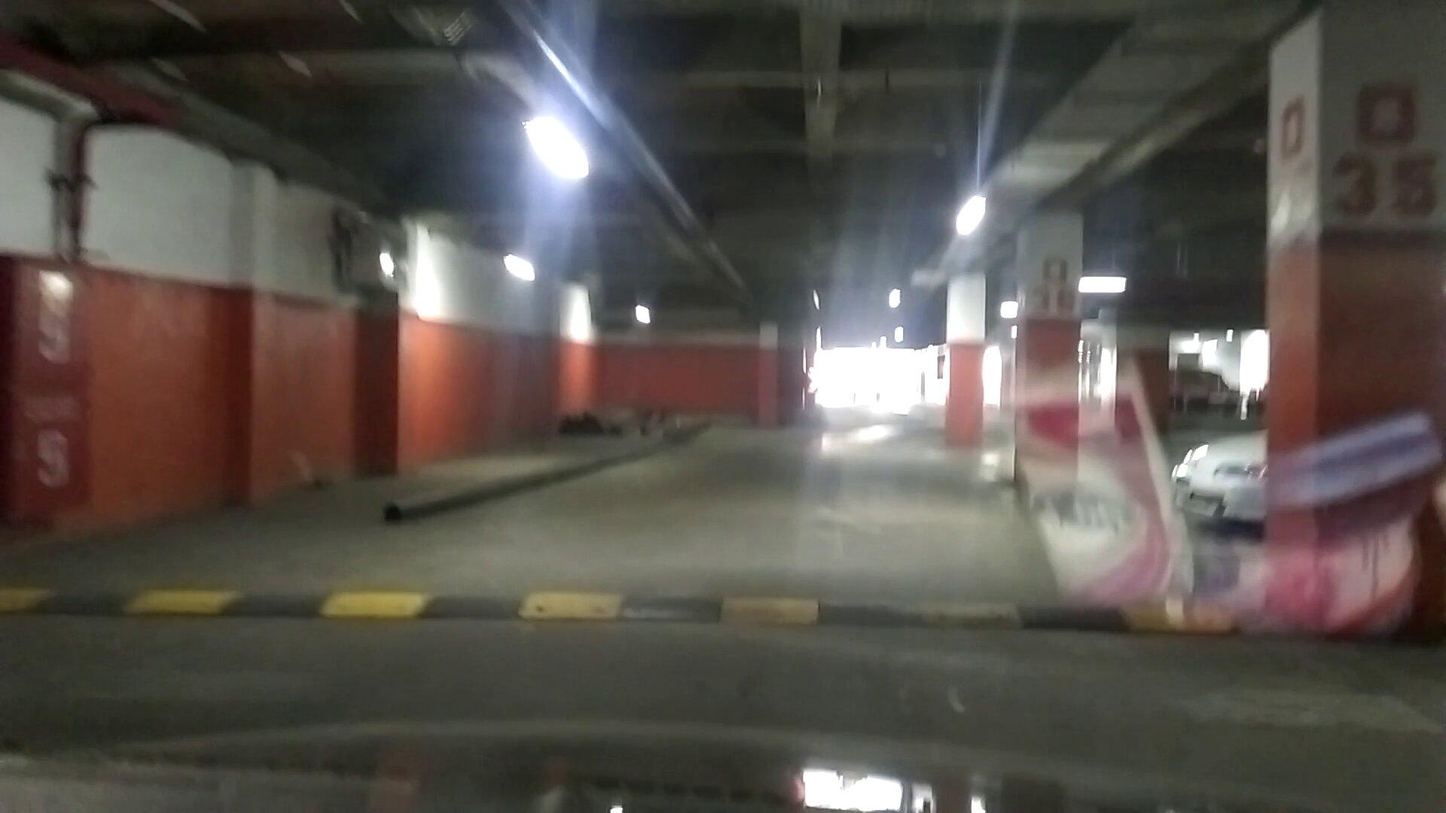Bump: (0, 570, 1286, 649)
